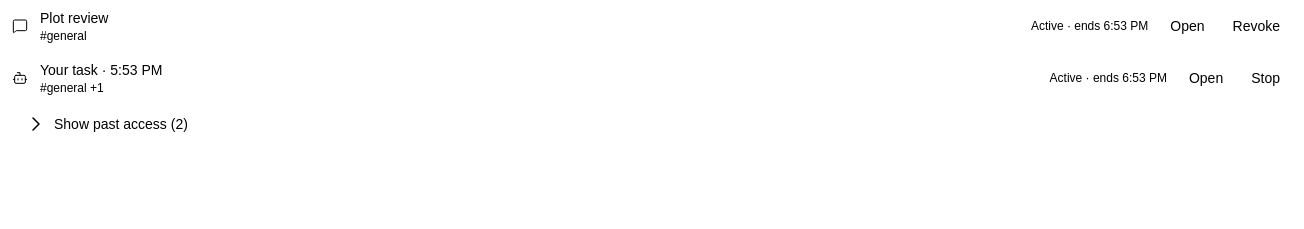
the Access tab › says a 503 stopped only on this device and keeps the row in view with Retry
The width and height of the screenshot is (1304, 229).
Click the button with aria-label "Revoke access for Plot review": (1256, 26) [1220,16,1292,36]
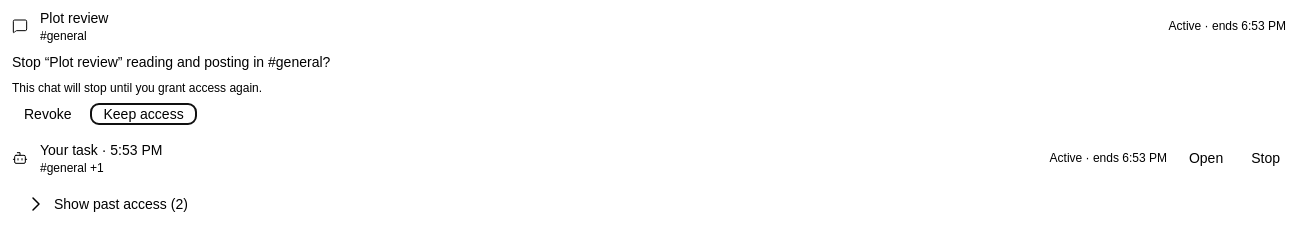
Click the button "Revoke": (48, 114) [12,104,84,124]
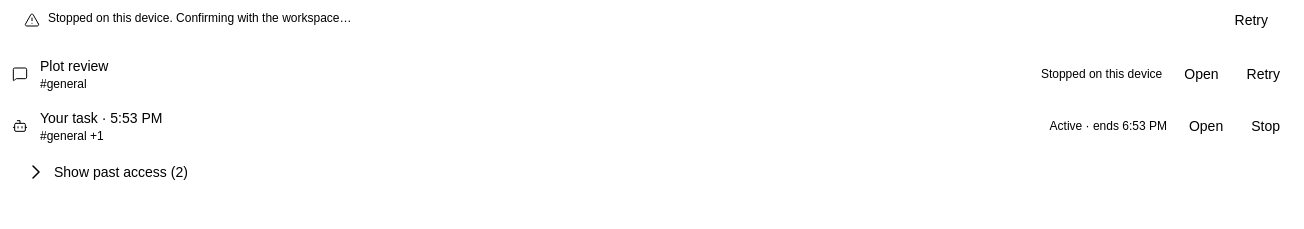
Result: the text "Stopped on this device. Confirming with the workspace…" is shown at [48,11,352,25]
Result: the list item with test id "crew-access-row" shows "Stopped on this device" at [1041,67,1162,81]
Result: the button with aria-label "Retry revoking Plot review" is shown at [1234,64,1292,84]
